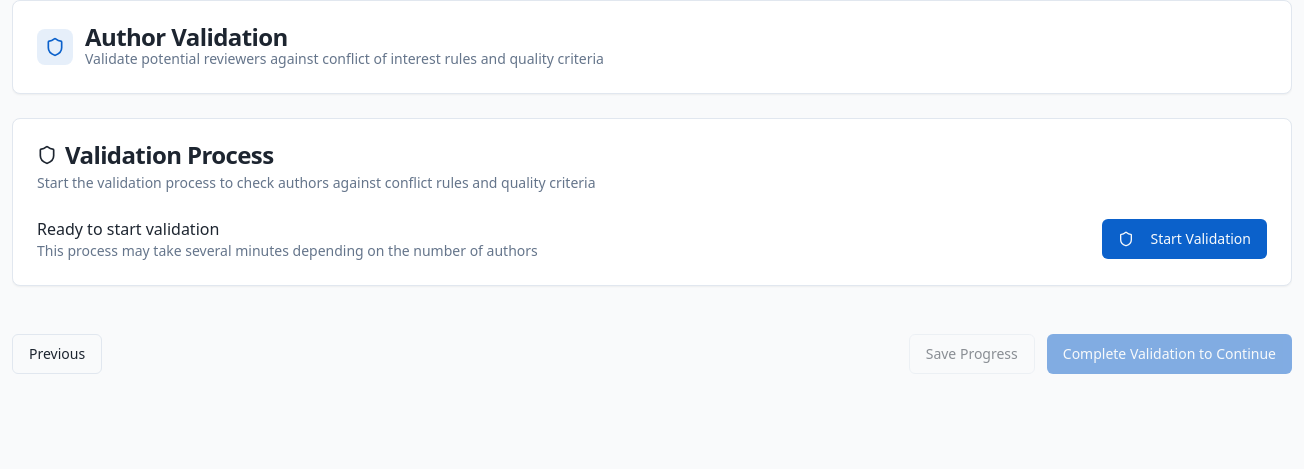
it: ValidationStep › Error Handling › handles validation API errors
The image size is (1304, 469).
Step 1. Click the button "Start Validation" → x=1185, y=239, box x1=1102 y1=219 x2=1267 y2=259
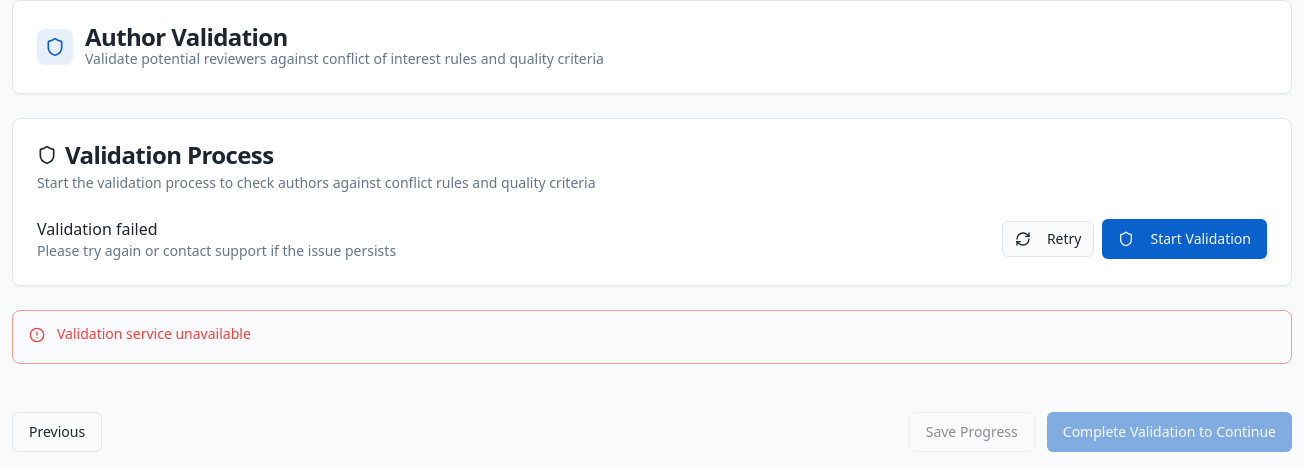
Result: the text "Validation failed" is shown at x1=37 y1=218 x2=158 y2=240
